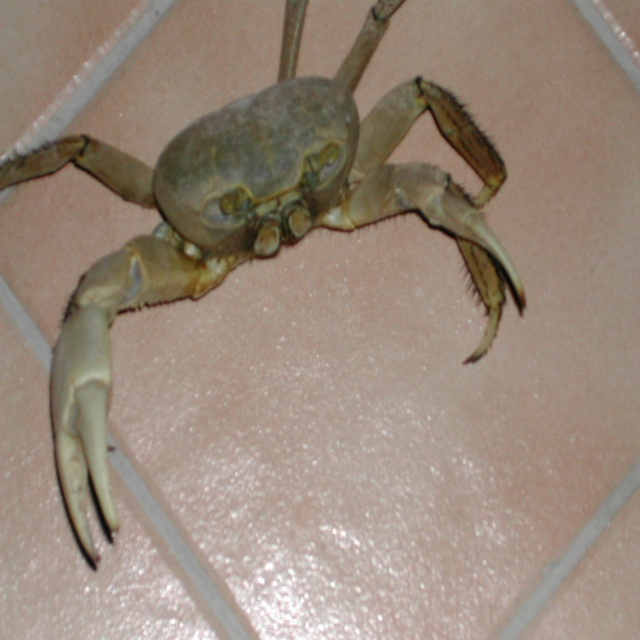Crab: (0, 0, 526, 567)
